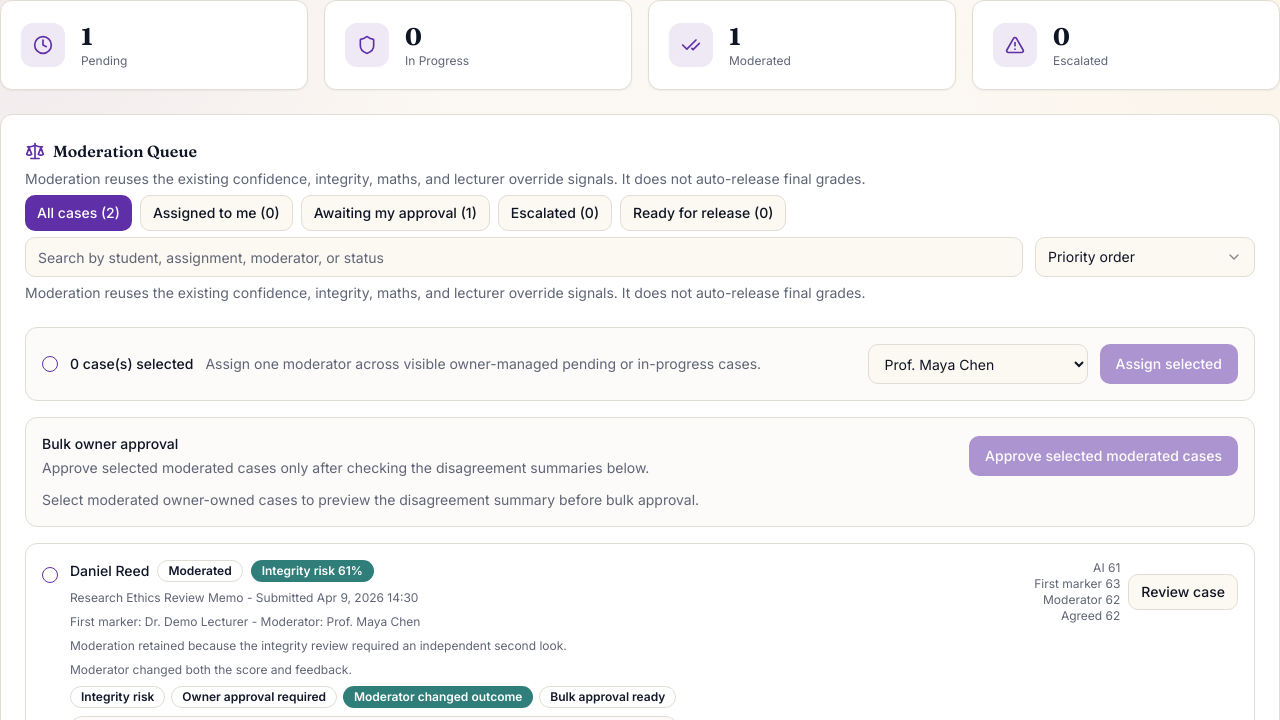
Test: ModerationDashboard demo mode › renders synthetic moderation cases and skips Supabase reads in demo mode
This screenshot has width=1280, height=720.
Expected: the heading "Moderation Queue" is shown, [53, 139, 197, 163]
Expected: the text "Daniel Reed" is shown, [70, 561, 150, 581]
Click the button "Review case": (1183, 592) [1128, 574, 1238, 610]
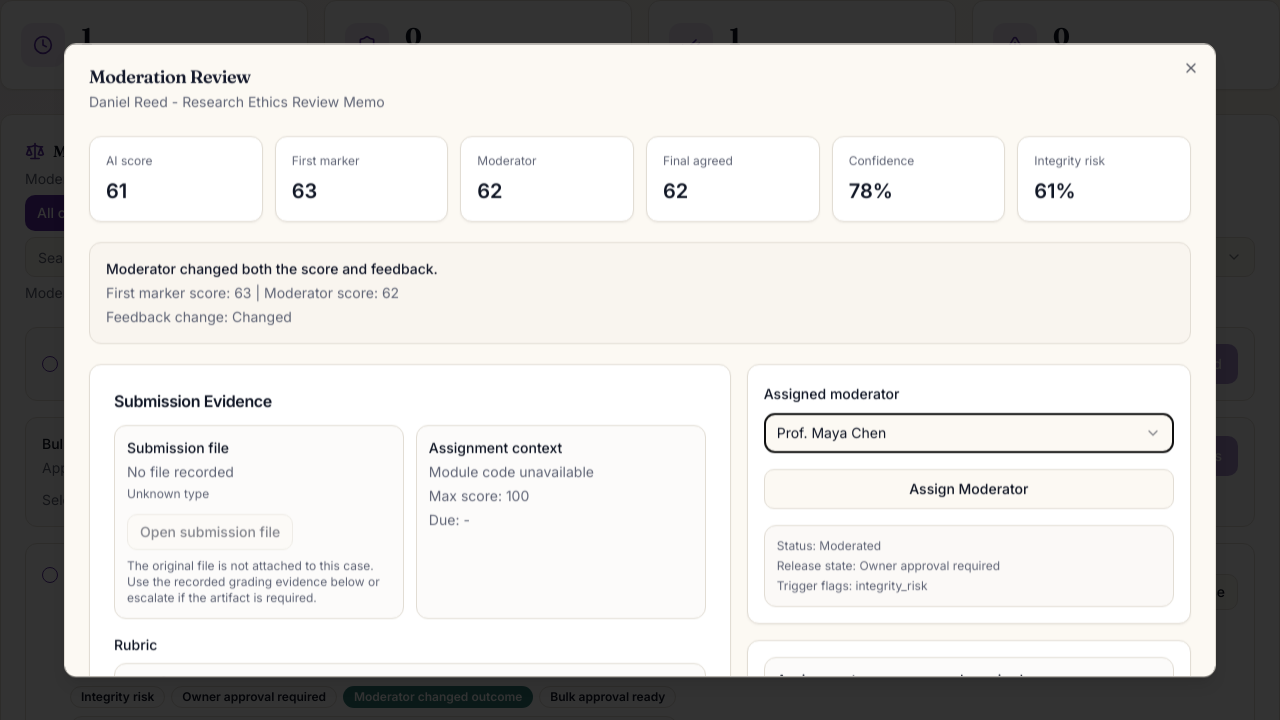
Now the heading "Moderation Review" is shown, box [89, 65, 251, 88]
